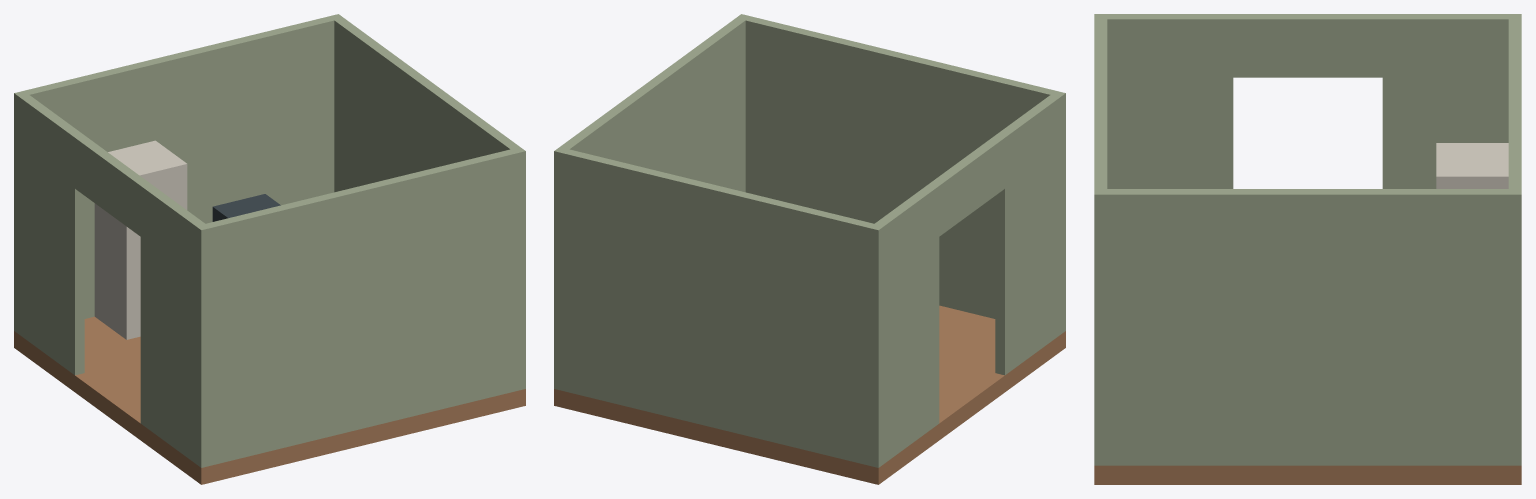
Rendered from kitchen.glb.
3 renders of one model, left to right at view 1: azimuth 30°, elevation 25°; view 2: azimuth 150°, elevation 25°; view 3: azimuth 270°, elevation 25°, orthographic. The views are drawn at different scales.
Parts seen in each view (by area): view 1: Kitchen south wall end, Kitchen north wall end, Kitchen east wall end, Kitchen west wall end, Kitchen west wall segment 1, Kitchen Floor, Kitchen Fridge, Kitchen west wall door 1 lintel, Kitchen Cooker; view 2: Kitchen north wall end, Kitchen south wall end, Kitchen east wall end, Kitchen west wall segment 1, Kitchen west wall end, Kitchen Floor, Kitchen west wall door 1 lintel; view 3: Kitchen east wall end, Kitchen west wall end, Kitchen west wall segment 1, Kitchen west wall door 1 lintel, Kitchen Floor, Kitchen north wall end, Kitchen south wall end, Kitchen Fridge.
Part boxes in pixels (left/top/right/bottom): Kitchen south wall end: left=195, top=147, right=525, bottom=467; Kitchen north wall end: left=14, top=14, right=343, bottom=334; Kitchen east wall end: left=334, top=14, right=525, bottom=390; Kitchen west wall end: left=140, top=183, right=210, bottom=467; Kitchen west wall segment 1: left=14, top=91, right=84, bottom=375; Kitchen Floor: left=14, top=316, right=525, bottom=484; Kitchen Fridge: left=94, top=140, right=187, bottom=339; Kitchen west wall door 1 lintel: left=75, top=135, right=149, bottom=236; Kitchen Cooker: left=212, top=194, right=280, bottom=221; Kitchen north wall end: left=554, top=147, right=884, bottom=467; Kitchen south wall end: left=736, top=14, right=1065, bottom=334; Kitchen east wall end: left=554, top=14, right=746, bottom=390; Kitchen west wall segment 1: left=869, top=183, right=939, bottom=467; Kitchen west wall end: left=995, top=91, right=1065, bottom=375; Kitchen Floor: left=554, top=305, right=1065, bottom=484; Kitchen west wall door 1 lintel: left=930, top=135, right=1004, bottom=236; Kitchen east wall end: left=1094, top=189, right=1521, bottom=465; Kitchen west wall end: left=1094, top=14, right=1233, bottom=188; Kitchen west wall segment 1: left=1382, top=14, right=1521, bottom=188; Kitchen west wall door 1 lintel: left=1233, top=14, right=1382, bottom=77; Kitchen Floor: left=1094, top=465, right=1521, bottom=484; Kitchen north wall end: left=1508, top=14, right=1521, bottom=465; Kitchen south wall end: left=1094, top=14, right=1107, bottom=465; Kitchen Fridge: left=1436, top=143, right=1508, bottom=188.
Bounding box in the file's own units: 4 × 3 × 4.
